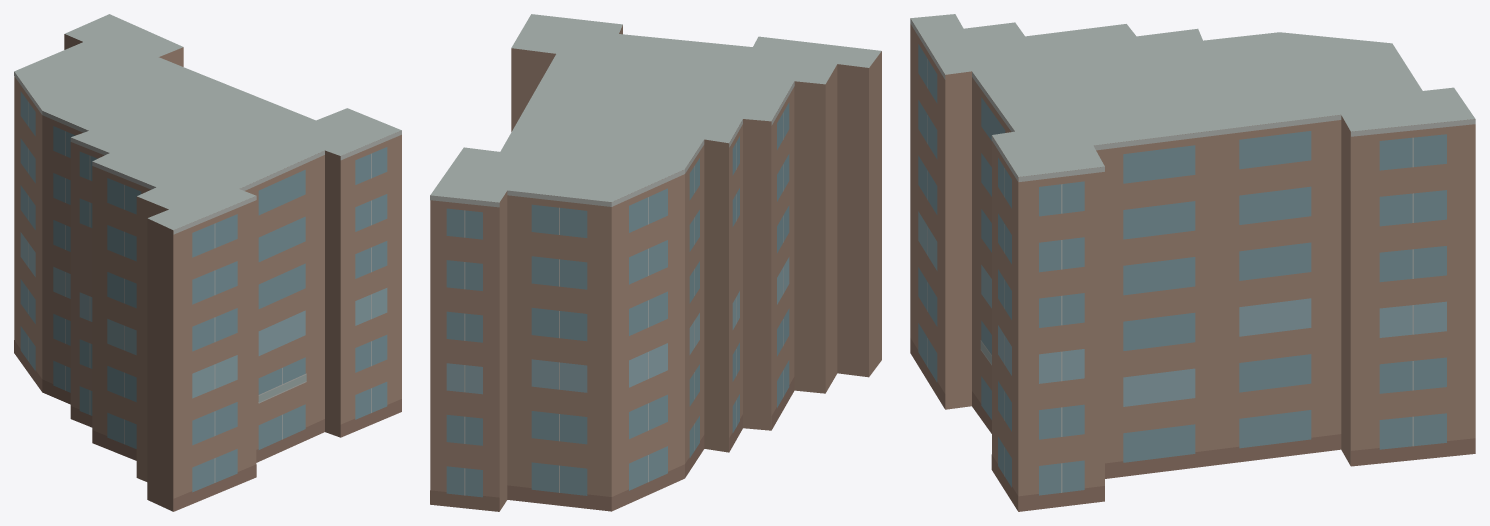
The model's file is survey-upis-32603463.glb.
3 renders of one model, left to right at view 1: azimuth 30°, elevation 25°; view 2: azimuth 150°, elevation 25°; view 3: azimuth 270°, elevation 25°, orthographic. The views are drawn at different scales.
Parts seen in each view (by area): view 1: survey-upis-32603463.tmp; view 2: survey-upis-32603463.tmp; view 3: survey-upis-32603463.tmp.
Part boxes in pixels (left/top/right/bottom): survey-upis-32603463.tmp: left=14, top=14, right=401, bottom=511; survey-upis-32603463.tmp: left=430, top=14, right=881, bottom=511; survey-upis-32603463.tmp: left=910, top=14, right=1475, bottom=511.
Size of the model in its own units: 16.3 by 15.6 by 23.87.
